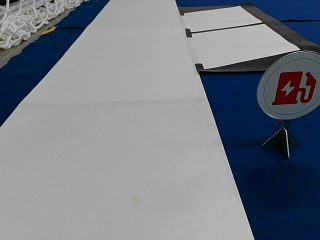battery: (256, 49, 319, 121)
